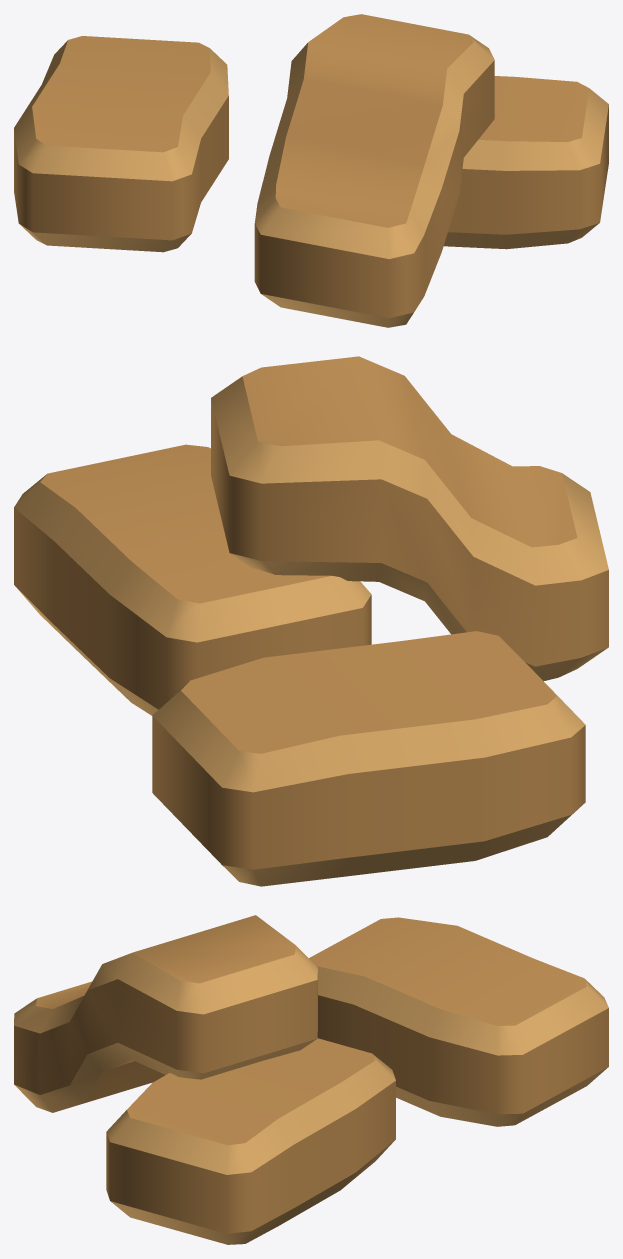
The model's file is Bags_3_A.fbx.
3 views of the same model, one above another, from view 1: azimuth 30°, elevation 25°; view 2: azimuth 150°, elevation 25°; view 3: azimuth 270°, elevation 25° (orthographic). The views are drawn at different scales.
Visible parts, largest first — view 1: Bags_3_A; view 2: Bags_3_A; view 3: Bags_3_A.
Boxes of the visible parts, bbox=[...] form: Bags_3_A: bbox=[14, 14, 608, 327]; Bags_3_A: bbox=[14, 356, 608, 886]; Bags_3_A: bbox=[14, 915, 608, 1244].
Bounding box in the file's own units: 223 × 86.45 × 228.
